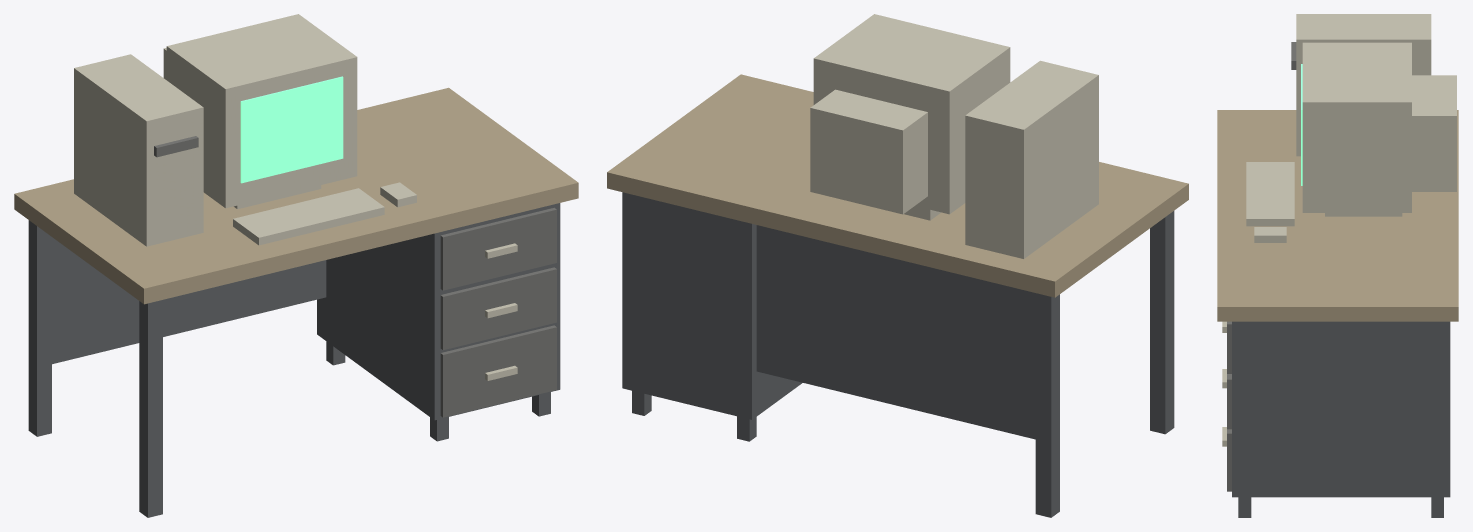
The model's file is retro_office_desk.glb.
3 renders of one model, left to right at view 1: azimuth 30°, elevation 25°; view 2: azimuth 150°, elevation 25°; view 3: azimuth 270°, elevation 25°, orthographic. The views are drawn at different scales.
Visible parts, largest first — view 1: DeskTop, PCTower, CRT_Housing, DrawerPedestal, BackPanel, CRT_Screen, DrawerFront3, DrawerFront1, DrawerFront2, LegFL, LegBL, Keyboard (+1 smaller); view 2: BackPanel, DeskTop, DrawerPedestal, PCTower, CRT_Housing, CRT_BackTube, LegBL, LegFL; view 3: DrawerPedestal, DeskTop, CRT_Housing, CRT_BackTube, PCTower, Keyboard, Mouse, DrawerFront3, CRT_Stand, PedFoot_0.65_-0.29.
Boxes of the visible parts, box(x1,y1,x2,y2) form: DeskTop: box(14, 87, 578, 304); PCTower: box(74, 54, 203, 246); CRT_Housing: box(166, 14, 357, 208); DrawerPedestal: box(317, 203, 560, 420); BackPanel: box(43, 231, 326, 364); CRT_Screen: box(240, 76, 343, 183); DrawerFront3: box(440, 325, 556, 417); DrawerFront1: box(440, 207, 556, 290); DrawerFront2: box(440, 267, 556, 350); LegFL: box(139, 300, 162, 517); LegBL: box(28, 220, 51, 436); Keyboard: box(233, 188, 384, 245); BackPanel: box(756, 225, 1035, 439); DeskTop: box(607, 74, 1188, 297); DrawerPedestal: box(622, 192, 802, 419); PCTower: box(965, 60, 1098, 258); CRT_Housing: box(813, 14, 1010, 214); CRT_BackTube: box(810, 89, 927, 214); LegBL: box(1035, 293, 1059, 517); LegFL: box(1150, 211, 1174, 434); DrawerPedestal: box(1232, 321, 1450, 497); DeskTop: box(1217, 110, 1458, 321); CRT_Housing: box(1302, 42, 1411, 212); CRT_BackTube: box(1412, 75, 1456, 191); PCTower: box(1296, 14, 1431, 156); Keyboard: box(1246, 162, 1294, 226); Mouse: box(1254, 227, 1286, 242); DrawerFront3: box(1227, 429, 1231, 491); CRT_Stand: box(1325, 213, 1402, 216); PedFoot_0.65_-0.29: box(1238, 497, 1251, 517).
Size of the model in its own units: 1.45 by 1.18 by 0.75.
